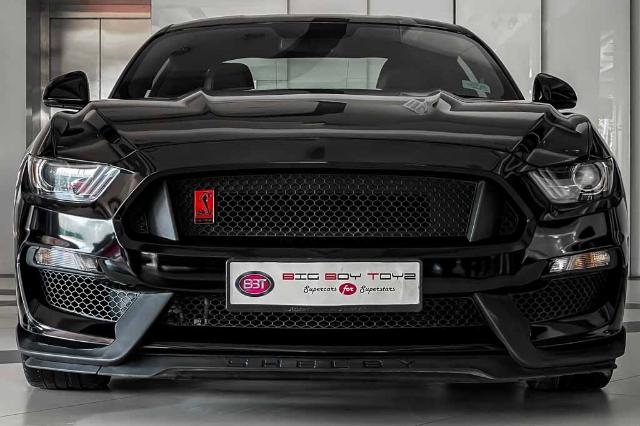ford-mustang: (12, 14, 630, 392)
